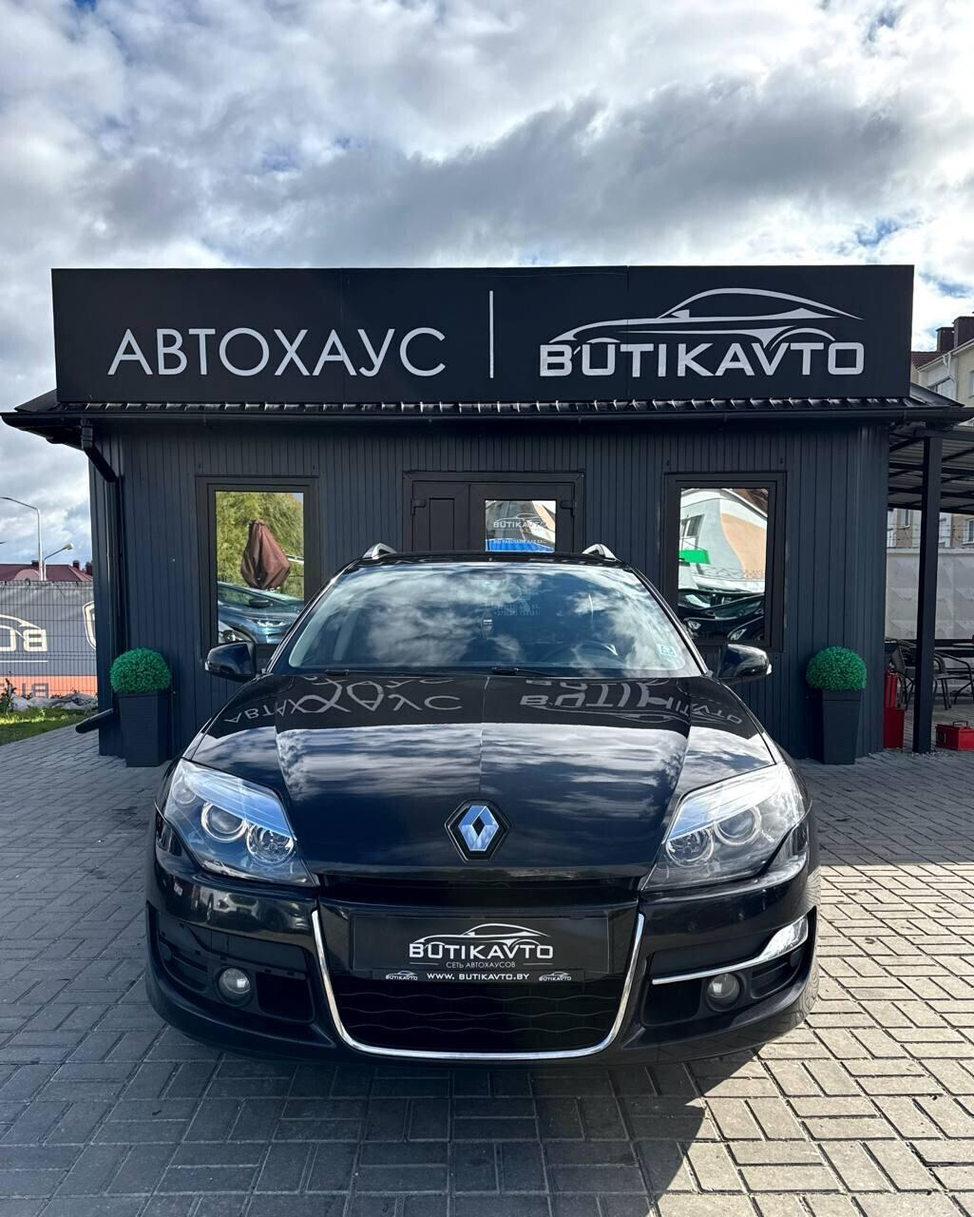Laguna_2010-2015: (152, 539, 822, 1076)
